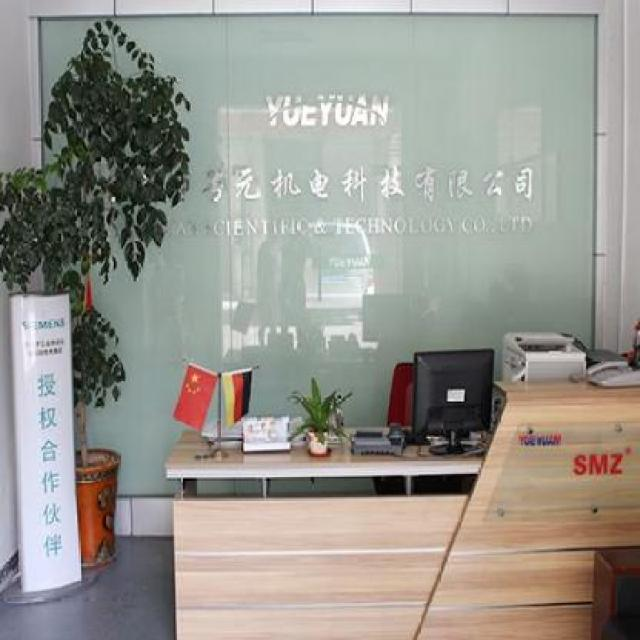frontdesk: (147, 361, 638, 640)
